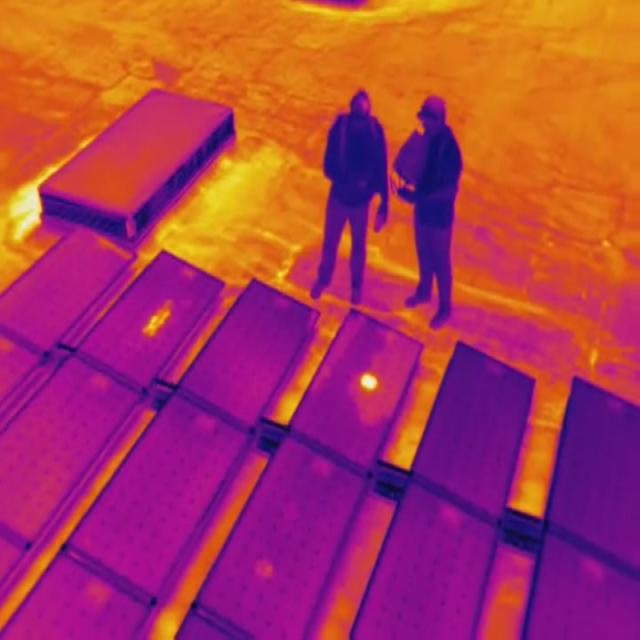Orange-Spots: (143, 302, 172, 336), (254, 554, 274, 582), (358, 368, 381, 390)
